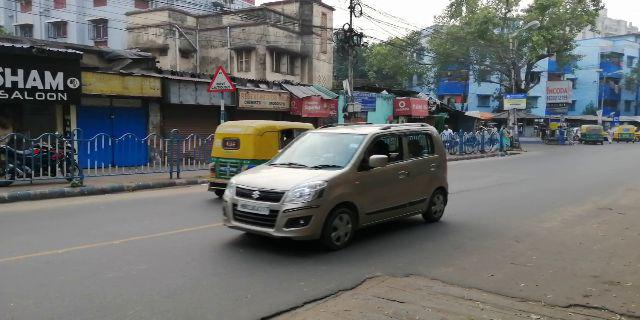Autorickshaw: (209, 118, 307, 194)
Car: (229, 125, 455, 245)
